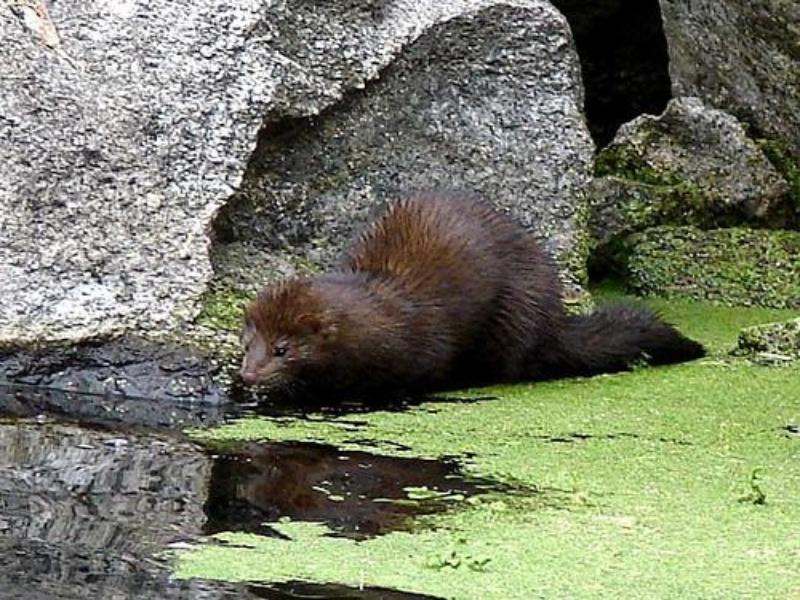minkish: (233, 181, 710, 404)
